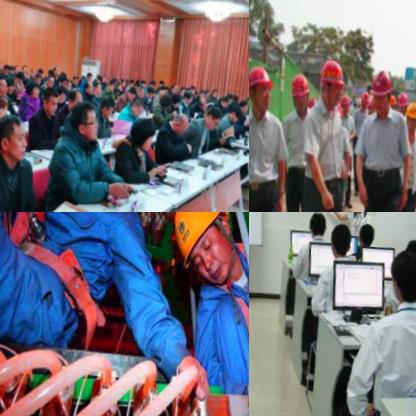head: (385, 243, 416, 302), (0, 110, 31, 164), (67, 97, 99, 138), (325, 219, 353, 258), (126, 116, 155, 153), (200, 104, 223, 132), (305, 212, 328, 240), (39, 84, 60, 113), (167, 111, 189, 138), (353, 218, 373, 247), (399, 234, 416, 268), (65, 86, 84, 109), (97, 93, 114, 116), (127, 94, 143, 117), (21, 79, 39, 97), (51, 83, 66, 102), (121, 85, 135, 104), (156, 90, 170, 109), (226, 104, 239, 122), (81, 77, 94, 94), (0, 91, 6, 123), (180, 86, 191, 103), (104, 77, 115, 93), (169, 89, 179, 106), (43, 72, 54, 87), (56, 71, 67, 86), (2, 78, 12, 94), (0, 73, 7, 95), (90, 80, 101, 94), (197, 95, 207, 110), (144, 84, 154, 98), (238, 99, 248, 113), (12, 69, 22, 82), (69, 71, 79, 84), (134, 83, 144, 96), (0, 61, 8, 75), (32, 68, 40, 82), (51, 64, 60, 76), (168, 79, 177, 91), (156, 82, 164, 95), (188, 81, 196, 94), (218, 93, 226, 106), (224, 89, 232, 102), (62, 77, 71, 88), (137, 77, 146, 88), (28, 63, 35, 77), (176, 84, 184, 96), (201, 84, 209, 96), (82, 70, 90, 80), (243, 91, 249, 104), (6, 62, 13, 73), (19, 59, 26, 70), (92, 71, 99, 82), (146, 77, 153, 88), (209, 85, 216, 96), (97, 71, 104, 81), (131, 78, 138, 88), (11, 62, 18, 71), (156, 77, 163, 86), (35, 66, 42, 74), (127, 76, 134, 84), (119, 76, 125, 85), (196, 87, 202, 94), (0, 58, 2, 69)
helmet: (158, 212, 245, 284), (316, 56, 346, 108), (249, 63, 274, 117), (367, 67, 392, 116), (287, 70, 313, 113), (402, 99, 416, 136), (394, 87, 407, 120), (338, 90, 353, 117), (356, 91, 371, 113)
